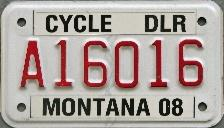0: (112, 39, 141, 90)
1: (148, 38, 170, 89), (53, 38, 75, 88)
6: (177, 37, 205, 88), (82, 38, 109, 89)
A: (18, 39, 47, 90)
